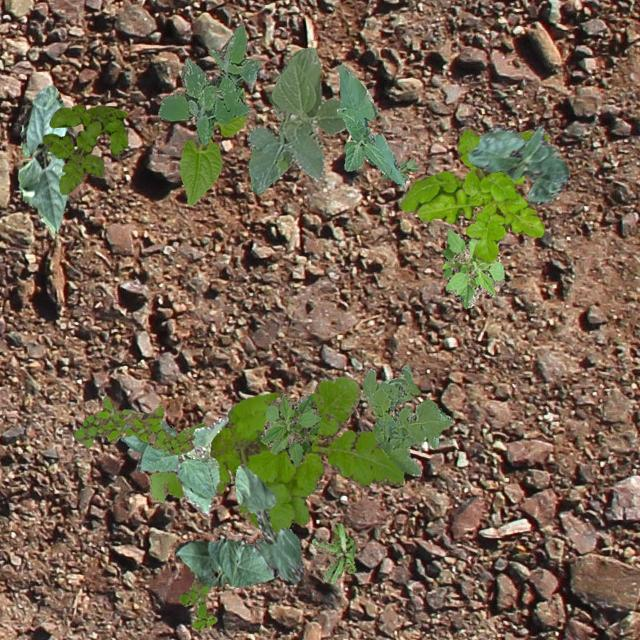crop: (246, 46, 346, 194), (336, 64, 404, 185), (234, 462, 302, 582), (468, 124, 568, 203), (178, 86, 244, 205), (120, 420, 214, 498), (17, 84, 66, 232), (174, 538, 278, 586), (180, 416, 228, 512)
weed: (148, 376, 402, 532), (398, 126, 548, 262), (156, 23, 260, 144), (360, 364, 452, 474), (41, 104, 126, 194), (73, 394, 194, 454), (439, 228, 504, 308), (260, 392, 320, 464), (310, 522, 356, 584), (178, 582, 216, 628), (380, 158, 420, 180)
